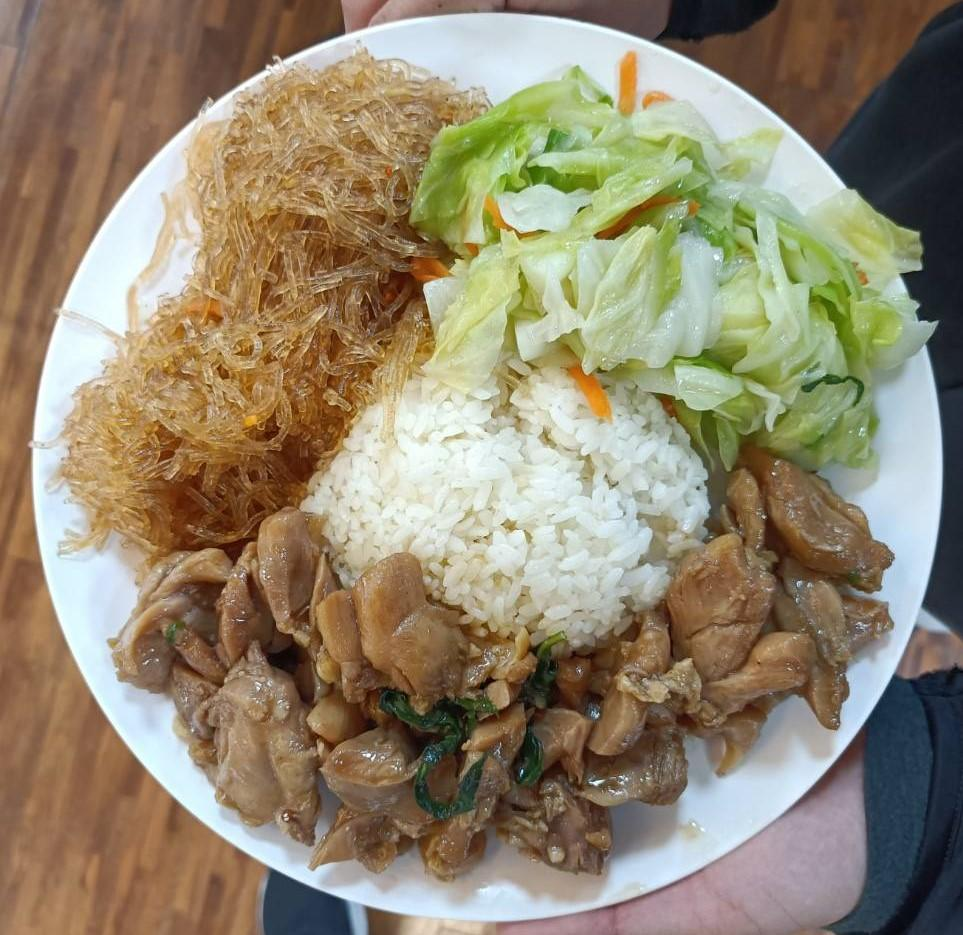big fried chicken leg: (16, 16, 952, 931)
big herbal chicken leg: (300, 338, 705, 652)
braised fish fillet: (57, 54, 486, 553), (424, 58, 928, 476)
braised pork: (97, 454, 902, 884)
